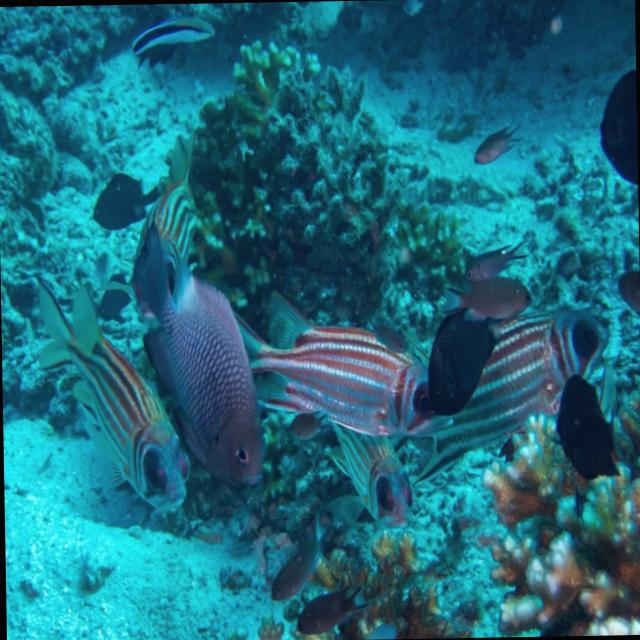Asker Baligi: (9, 246, 194, 594), (228, 292, 440, 456)
